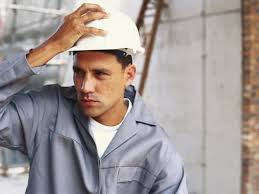Person_wearing_helmet: (60, 10, 141, 76)
